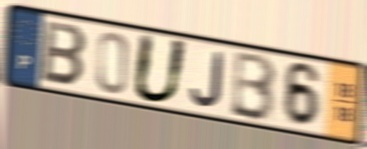0: (94, 29, 130, 95)
6: (279, 60, 325, 130)
B: (228, 50, 279, 125), (39, 18, 89, 89)
J: (188, 49, 226, 110)
U: (130, 31, 191, 106)
